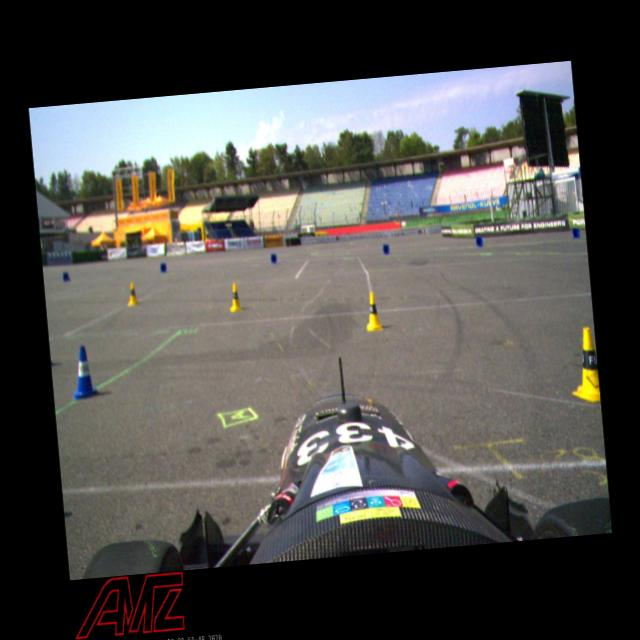blue_cone: (68, 344, 98, 400), (61, 270, 70, 282), (571, 227, 580, 238)
yellow_cone: (566, 325, 600, 405), (363, 290, 383, 332), (226, 282, 242, 314), (125, 280, 139, 308)
